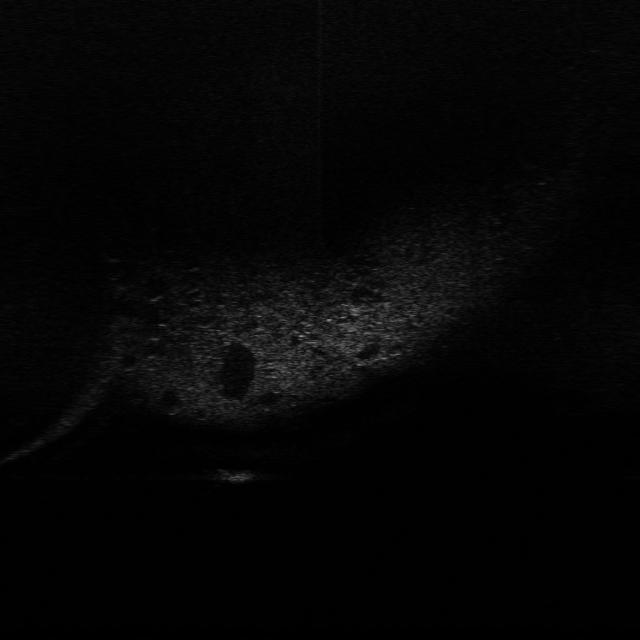cube: (211, 466, 268, 488)
